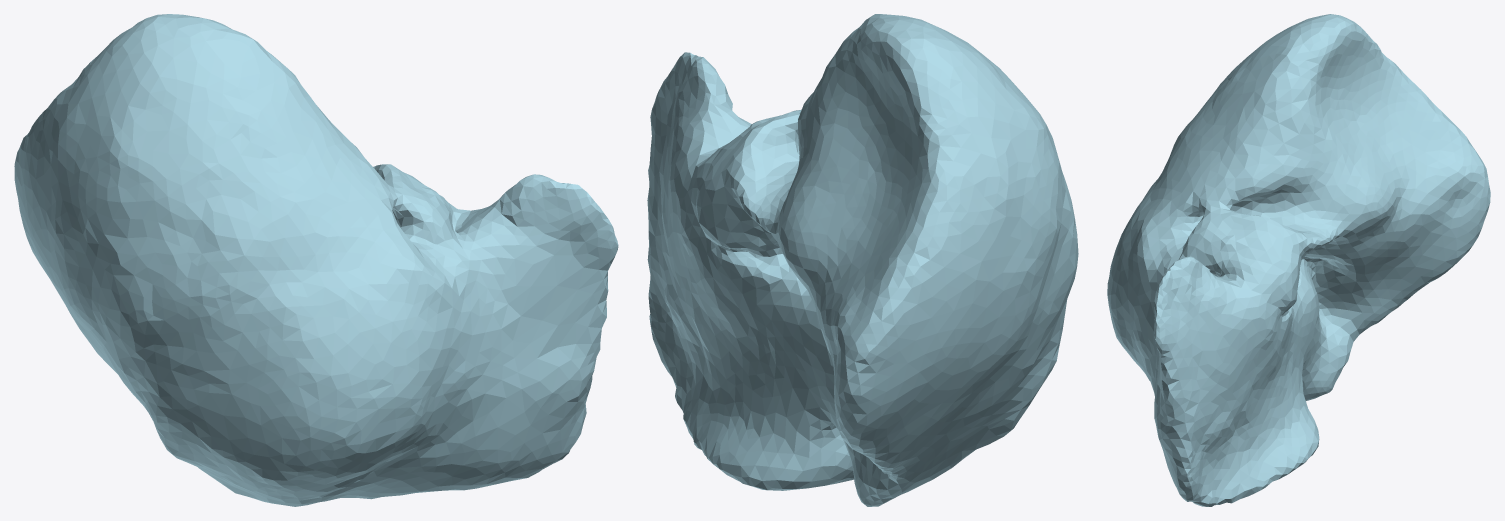
Rendered from liver.obj.
The picture shows the model from 3 angles, left to right: view 1: azimuth 30°, elevation 25°; view 2: azimuth 150°, elevation 25°; view 3: azimuth 270°, elevation 25°; orthographic projection. The views are drawn at different scales.
Parts seen in each view (by area): view 1: grp1; view 2: grp1; view 3: grp1.
Boxes of the visible parts, box(x1,y1,x2,y2) form: grp1: box(14, 14, 618, 506); grp1: box(647, 14, 1078, 506); grp1: box(1107, 14, 1490, 506).
Bounding box in the file's own units: 207 × 208 × 189.
